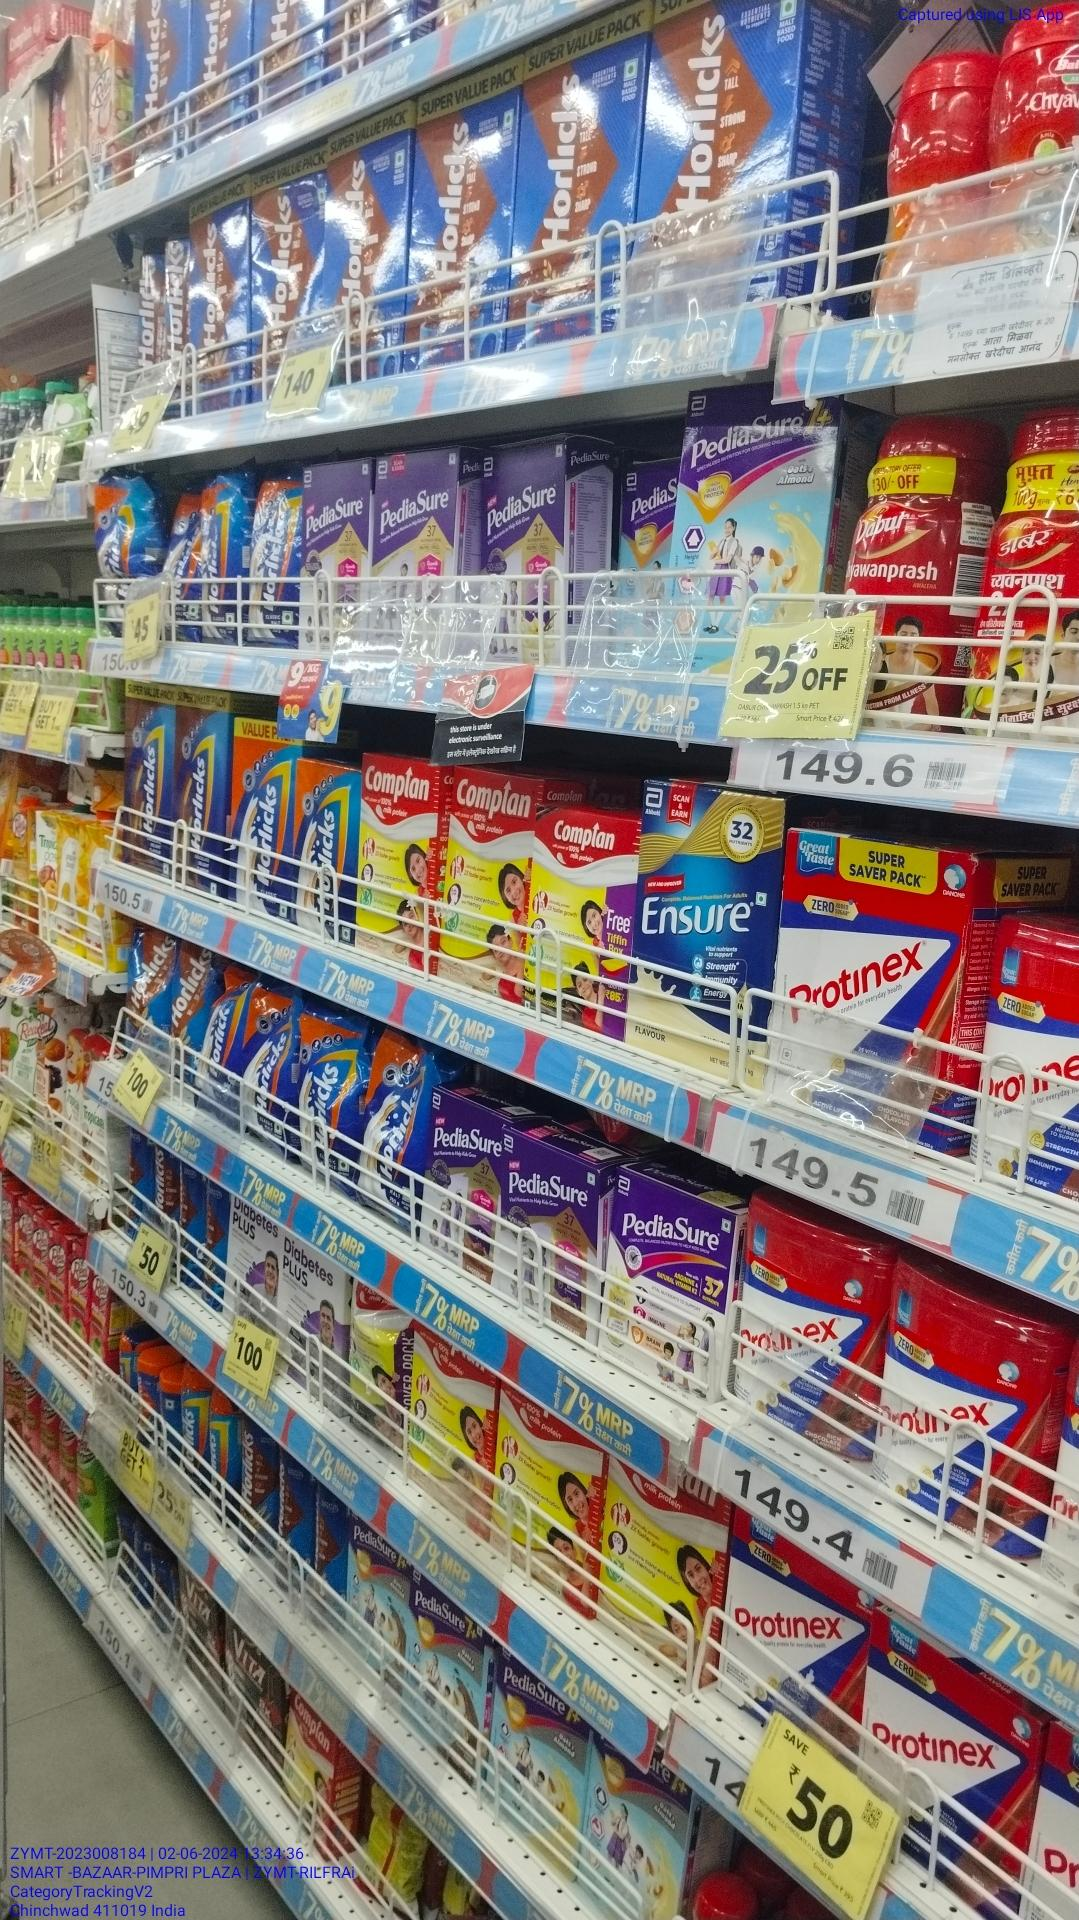PEDIASURE_CHOCOLATE_500_G_PACK: (505, 1125, 598, 1332), (430, 1098, 500, 1279)
PEDIASURE_VANILLA_500_G_PACK: (485, 450, 576, 650), (373, 463, 459, 637), (302, 465, 369, 644)
PROTINEX_CHOCOLATE_400_G_JAR: (888, 1253, 1039, 1524), (741, 1226, 879, 1435), (976, 911, 1079, 1187)
